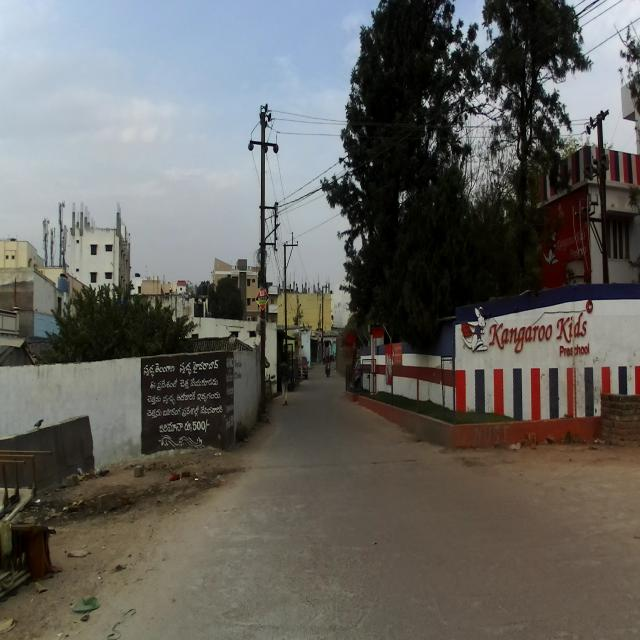electric pole ahead at: (248, 100, 284, 428)
